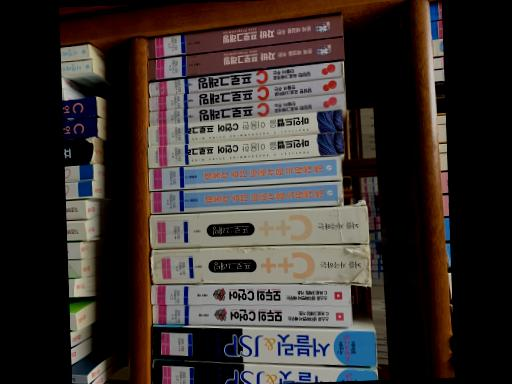book-spine: (148, 206, 367, 249), (151, 326, 375, 366), (146, 14, 341, 59), (147, 36, 343, 80), (150, 246, 370, 285), (146, 110, 343, 146), (146, 132, 343, 168), (147, 77, 343, 112), (147, 61, 342, 96), (148, 156, 341, 191), (147, 93, 344, 126), (148, 181, 342, 214), (152, 360, 376, 384), (151, 305, 351, 327), (150, 286, 349, 305)
